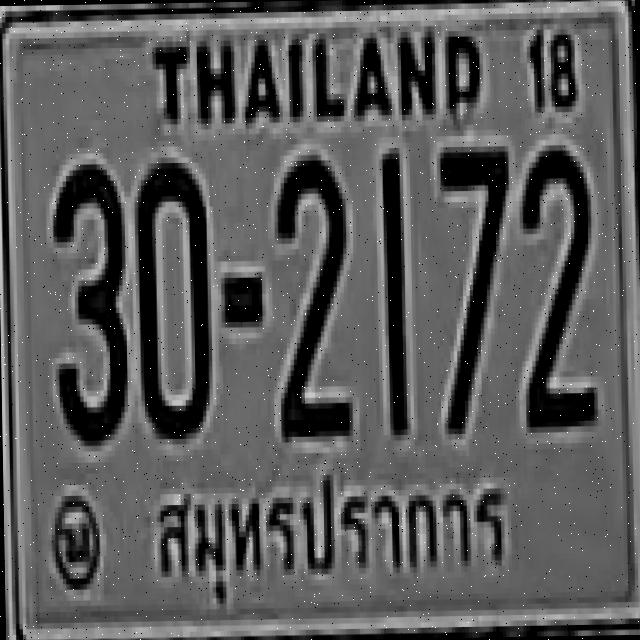0: (133, 159, 210, 436)
1: (378, 148, 407, 434)
2: (520, 144, 594, 426), (274, 154, 348, 436)
3: (51, 160, 128, 444)
7: (436, 140, 509, 428)
SamutPrakan: (150, 460, 514, 606)
